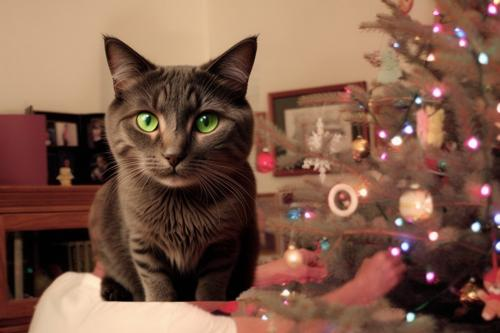cat: (100, 33, 259, 301)
person: (29, 170, 414, 333)
person/hand: (355, 250, 408, 292), (280, 247, 333, 285)
person/head: (89, 172, 198, 294)
